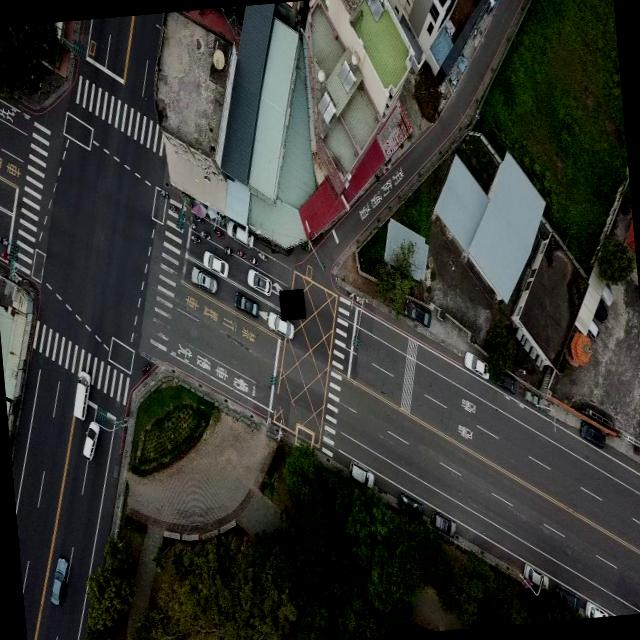car: (46, 554, 72, 604), (69, 369, 94, 419), (78, 419, 102, 462), (462, 346, 490, 381), (554, 582, 582, 616), (348, 457, 375, 490), (578, 418, 607, 448), (190, 263, 218, 294), (404, 296, 431, 328), (232, 285, 258, 318), (396, 489, 424, 519), (266, 308, 294, 338), (246, 266, 271, 296), (226, 220, 252, 248), (430, 508, 454, 536), (203, 251, 226, 280), (583, 598, 610, 617), (485, 0, 501, 11)
